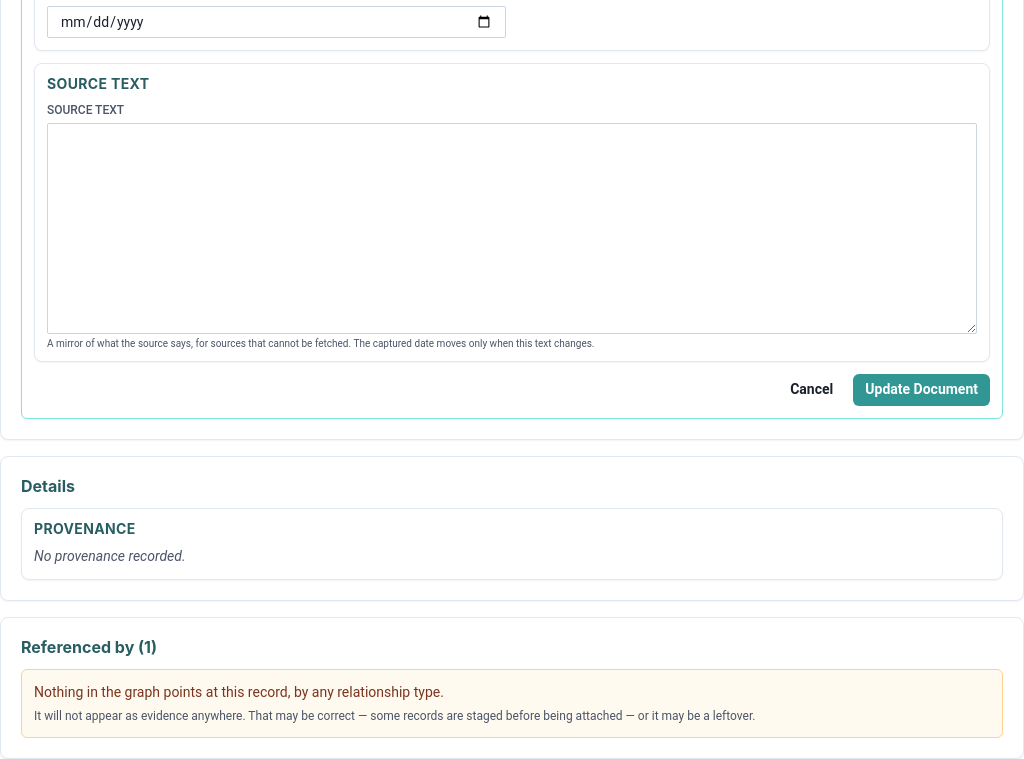
it: editing on the panel › says so rather than writing when nothing was changed
(page scrolled)
Click the button "Update Document".
click(922, 390)  # box x1=853 y1=374 x2=990 y2=406
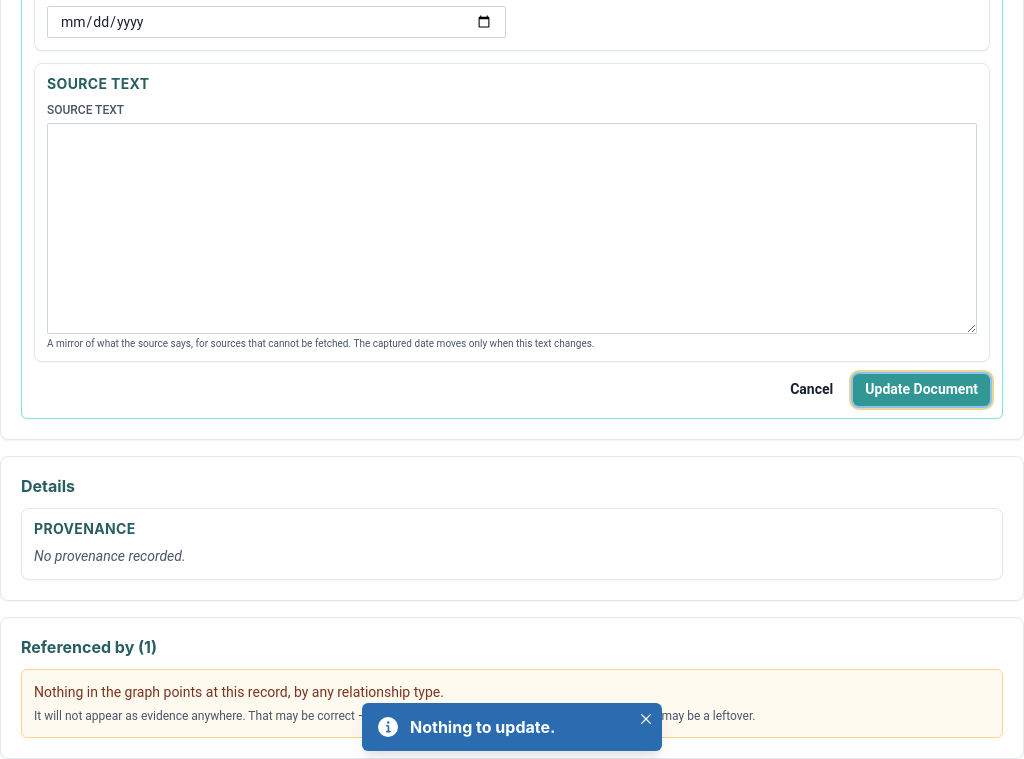
Result: the text "Nothing to update." is shown at x1=410 y1=717 x2=555 y2=737
